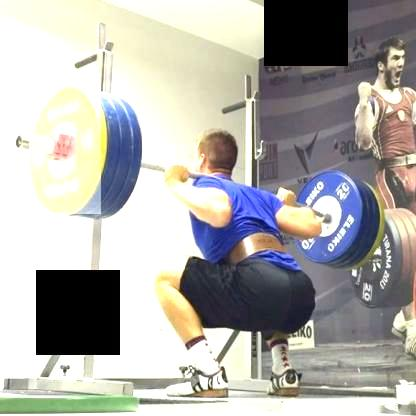barbell: (29, 86, 101, 215), (291, 169, 366, 267)
